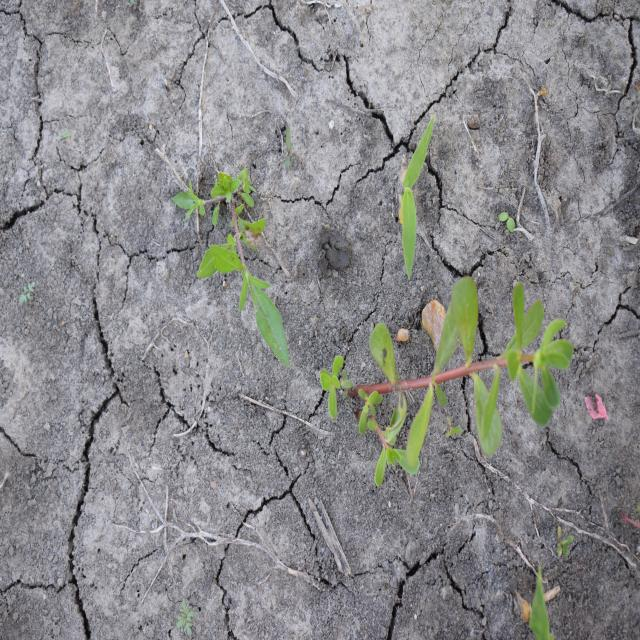Eclipta: (172, 167, 291, 371)
Purslane: (318, 275, 576, 489)
